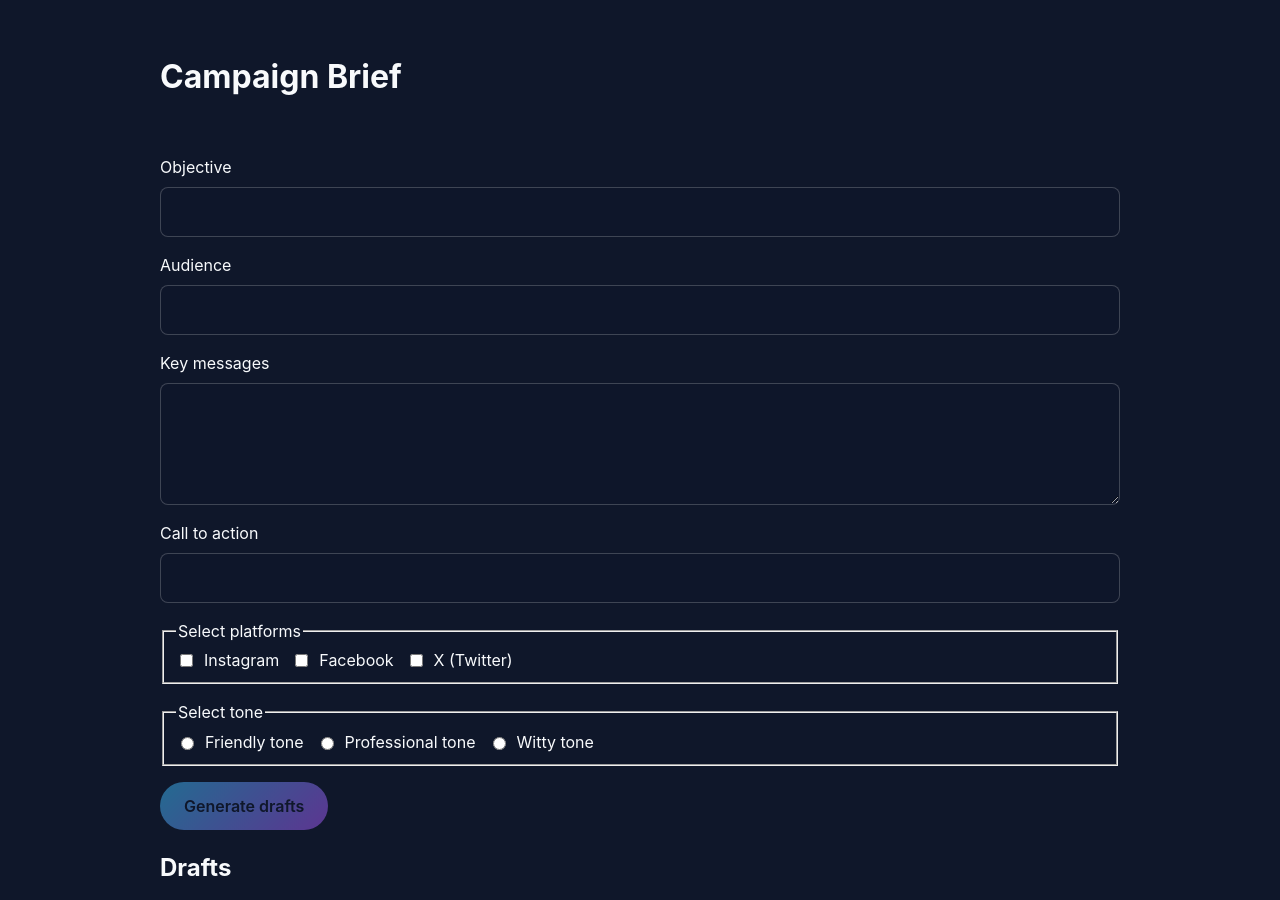
Scenario: BriefForm + PlatformSelector › shows drafts on successful API response and surfaces errors on failure
The width and height of the screenshot is (1280, 900).
In the field labelled "Objective": {"x": 640, "y": 212} top-left (160, 187), bottom-right (1120, 237), type "Launch new product"
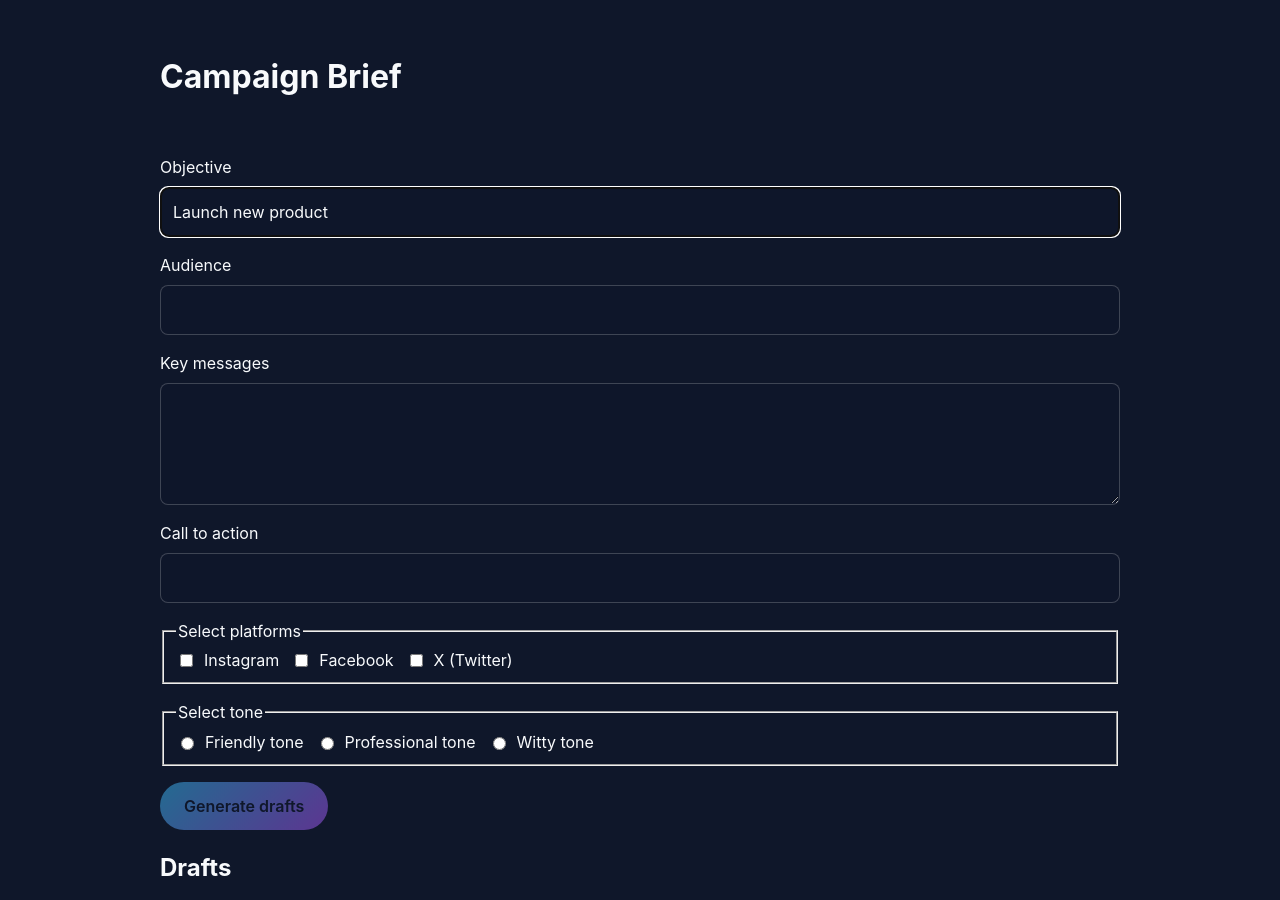
In the field labelled "Call to action": {"x": 640, "y": 578} top-left (160, 553), bottom-right (1120, 603), type "Sign up today"
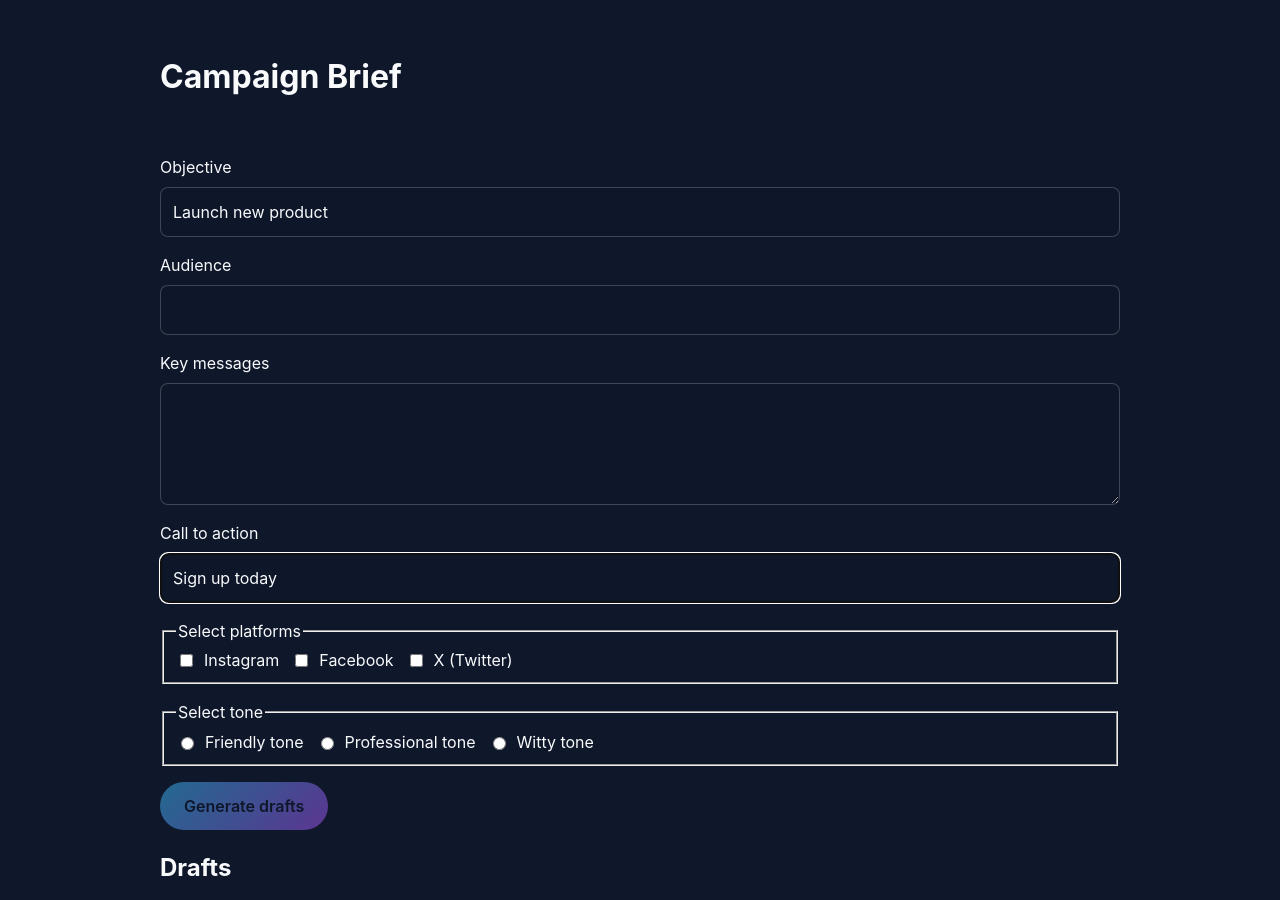
Click the radio button labelled "Friendly tone": {"x": 188, "y": 744} top-left (181, 737), bottom-right (194, 750)
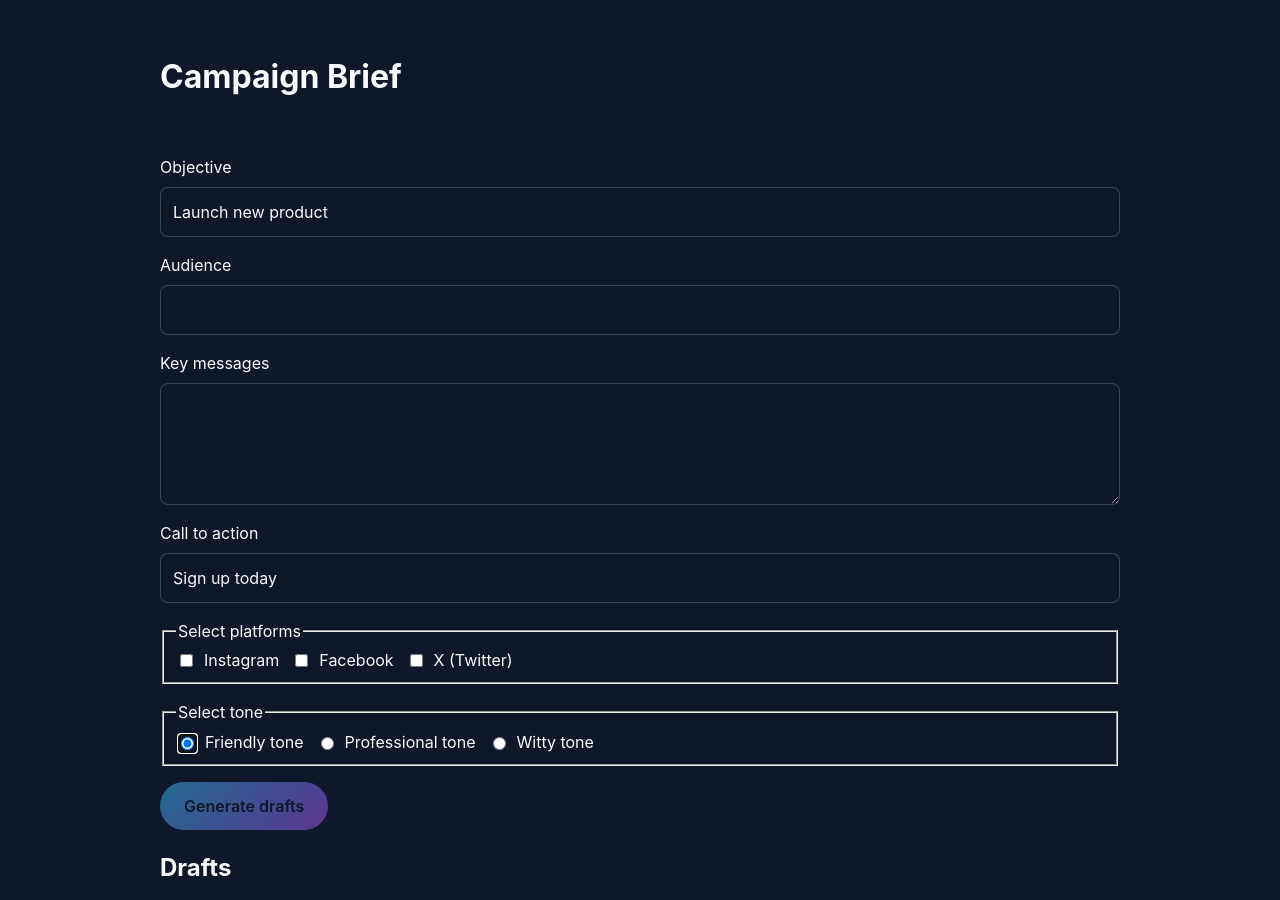
Click the checkbox labelled "X (Twitter)": {"x": 416, "y": 660} top-left (410, 654), bottom-right (423, 667)
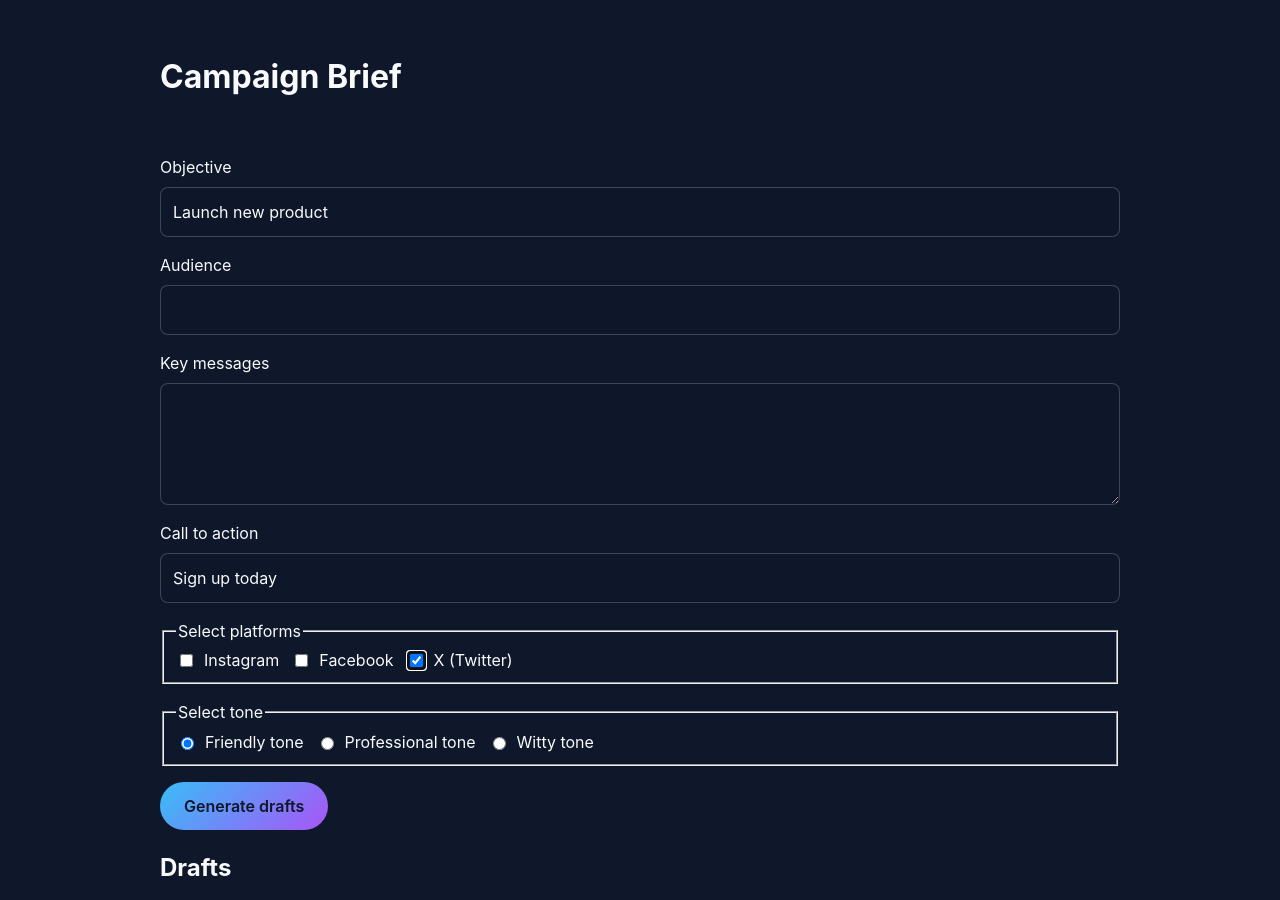
Click the button "Generate drafts": {"x": 244, "y": 806} top-left (160, 782), bottom-right (328, 830)
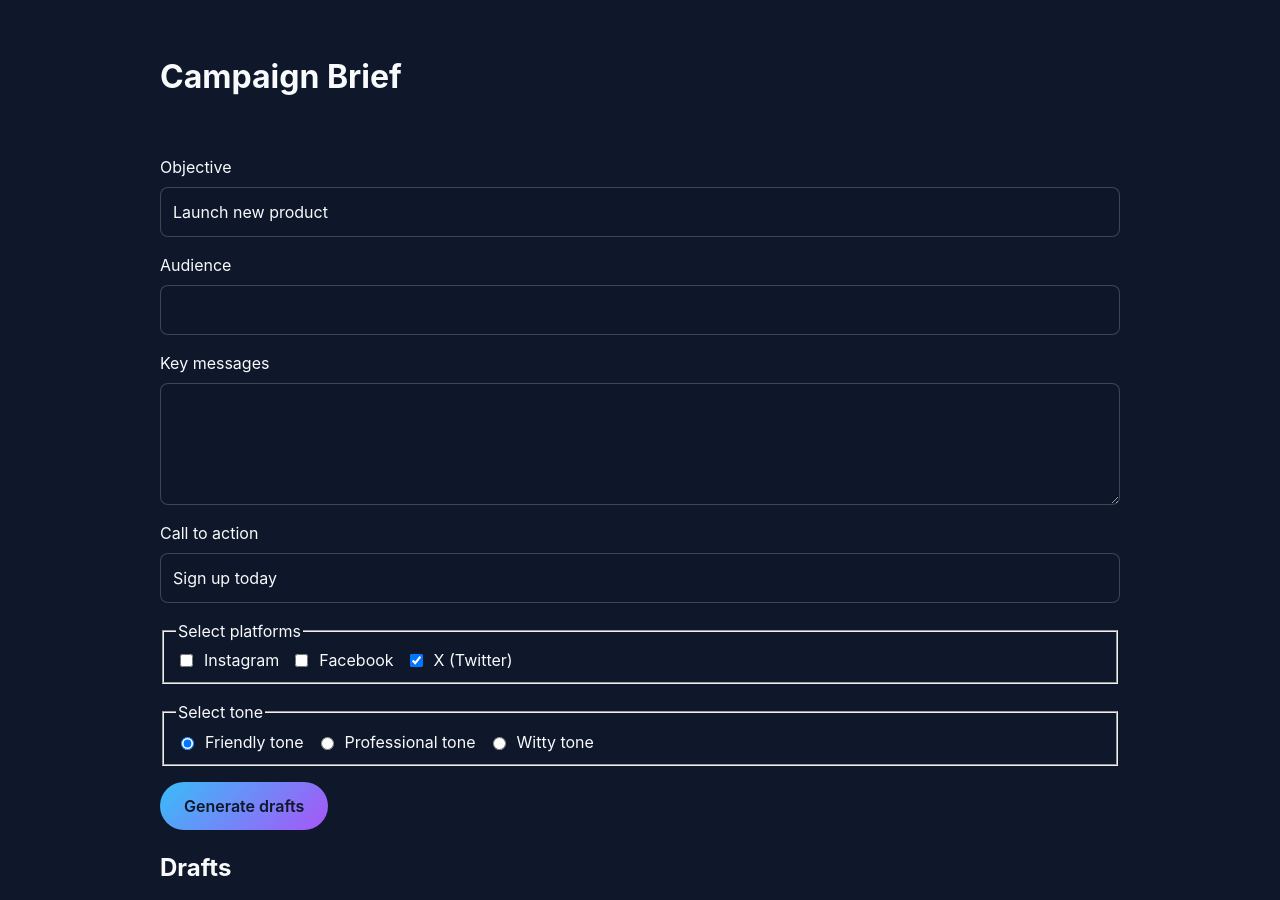
Click the button "Generate drafts": {"x": 244, "y": 806} top-left (160, 782), bottom-right (328, 830)
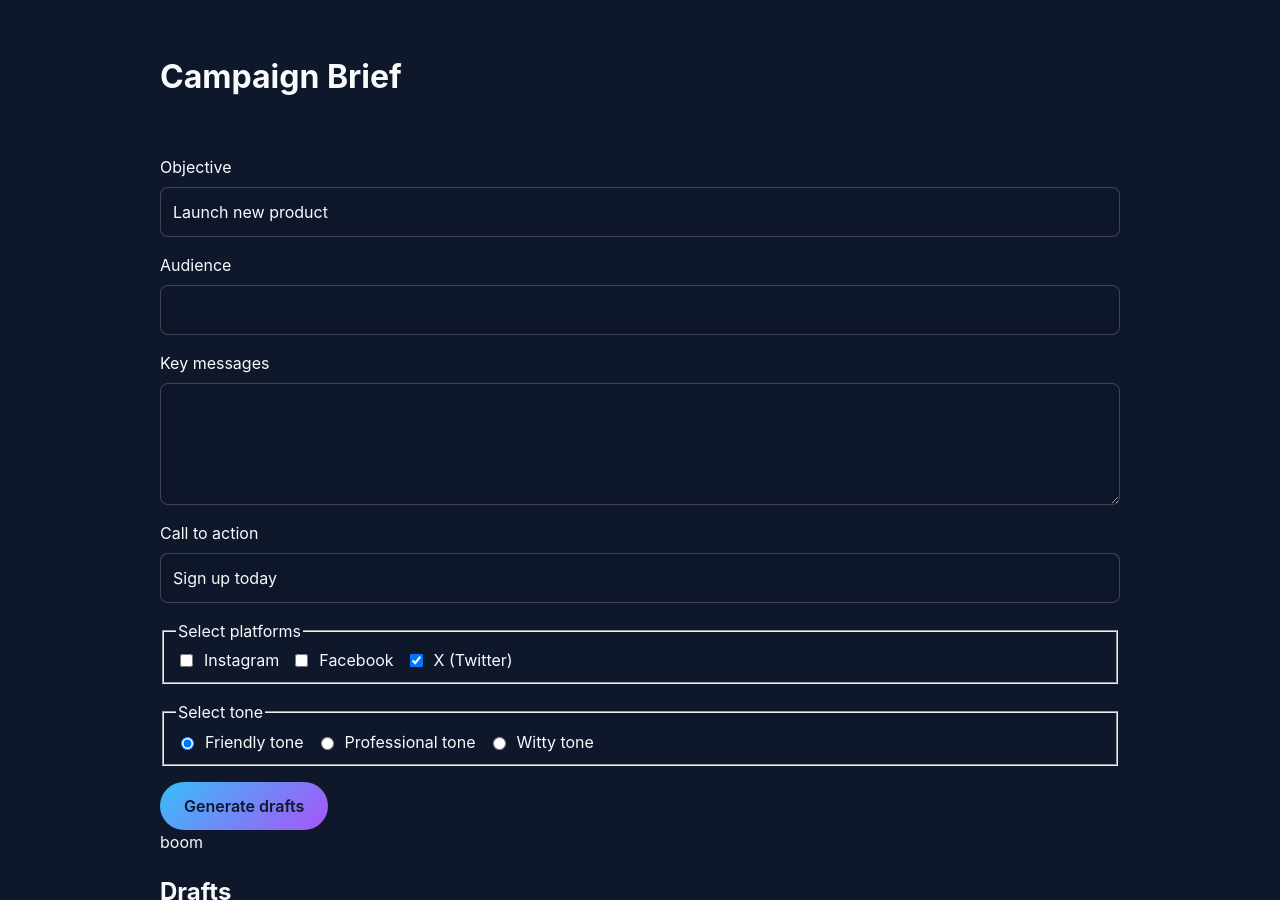
Expected: the message reads "boom", top-left (160, 832), bottom-right (203, 852)
